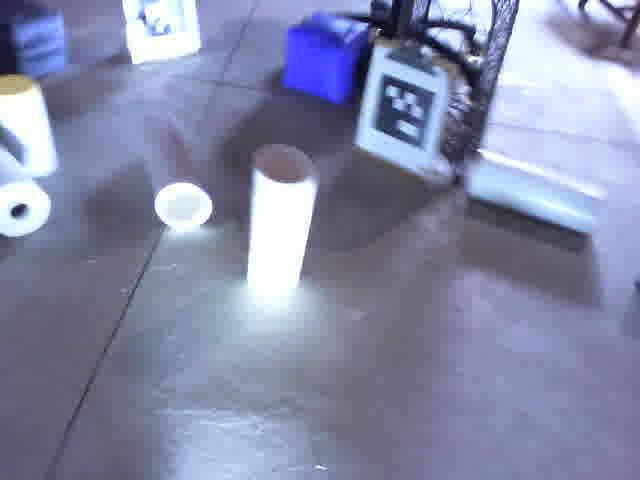coral: (241, 140, 325, 307), (464, 146, 608, 241), (130, 102, 218, 234)
